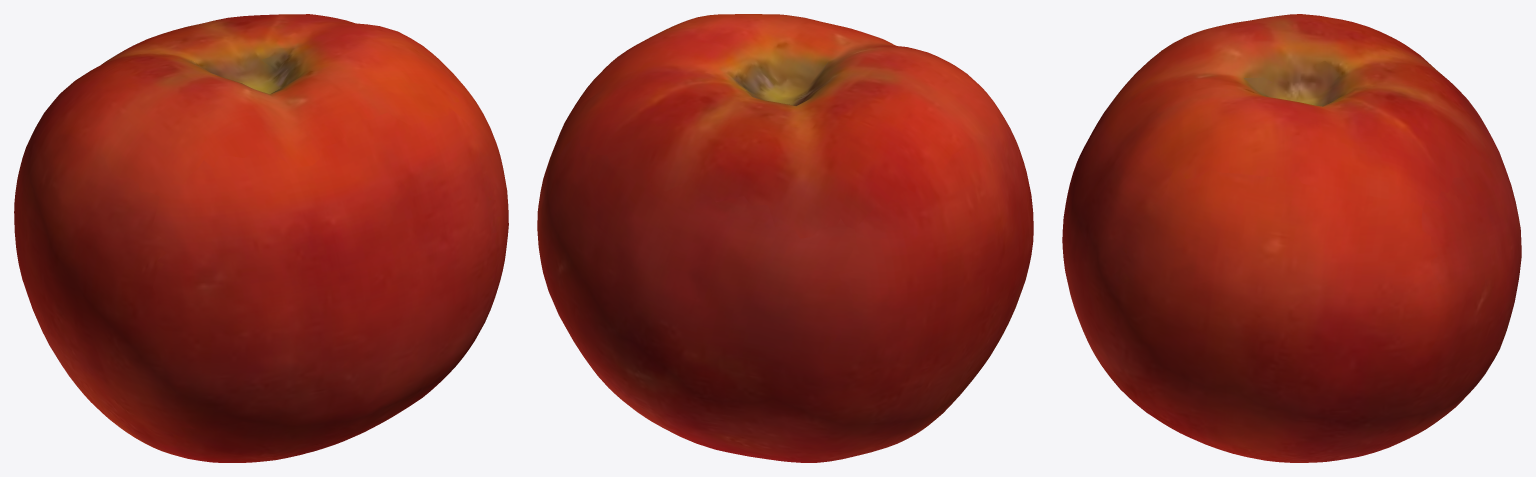
File: tomato.glb
The picture shows the model from 3 angles, left to right: view 1: azimuth 30°, elevation 25°; view 2: azimuth 150°, elevation 25°; view 3: azimuth 270°, elevation 25°; orthographic projection. The views are drawn at different scales.
Visible parts, largest first — view 1: sm_food_produce_tomato_a01_01; view 2: sm_food_produce_tomato_a01_01; view 3: sm_food_produce_tomato_a01_01.
Boxes of the visible parts, x1,y1,x2,y2 form: sm_food_produce_tomato_a01_01: (14, 14, 508, 462); sm_food_produce_tomato_a01_01: (537, 14, 1033, 462); sm_food_produce_tomato_a01_01: (1062, 14, 1521, 462).
Bounding box in the file's own units: 0.065 × 0.0568 × 0.0621.
1 material, 1 textured.
